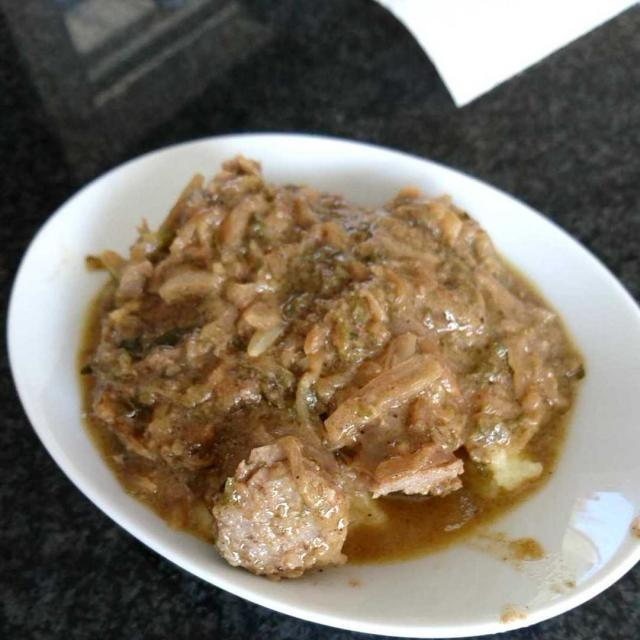mashed-potatoes: (98, 179, 587, 511)
sauce: (70, 290, 619, 560)
sausage: (173, 410, 486, 578)
